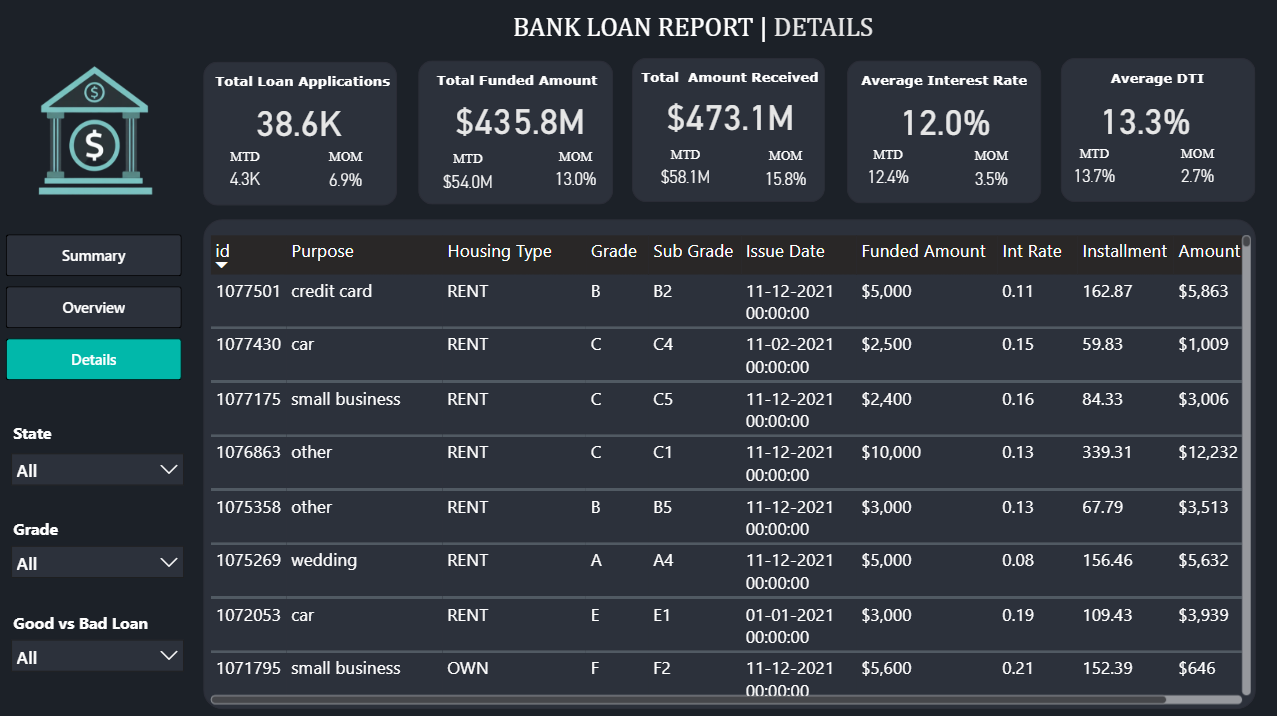

The page's visual inventory and layout, read from the dashboard file:
{"tool":"powerbi","page":{"name":"Details","canvas":[1280,720],"ordinal":2},"visuals":[{"type":"textbox","box":[121.7,10,1158.3,58.3],"z":0},{"type":"shape","box":[635.4,60.6,193.1,144],"z":0,"group":"g3"},{"type":"shape","box":[1063.1,60.6,194.8,144],"z":0,"group":"g5"},{"type":"shape","box":[421.3,63.1,194.9,144],"z":0,"group":"g2"},{"type":"shape","box":[849.8,63.1,194.3,142.9],"z":0,"group":"g4"},{"type":"shape","box":[206,64.3,193.8,143.7],"z":0,"group":"g1"},{"type":"group","id":"g1","title":"Group 1","box":[206,64.3,195.9,143.7],"z":1000},{"type":"group","id":"g2","title":"Group 1","box":[421.3,63.1,195.7,144],"z":2000},{"type":"card","fields":{"Values":["financial_loan.Total Amount Received"]},"box":[653.6,73.1,159.3,89.5],"z":2000,"group":"g3"},{"type":"card","fields":{"Values":["financial_loan.Avg DTI"]},"box":[1087.7,83.2,121.5,77.3],"z":2000,"group":"g5"},{"type":"card","fields":{"Values":["financial_loan.Avg Interest Rate"]},"box":[886.9,83.9,121.5,76.1],"z":2000,"group":"g4"},{"type":"card","fields":{"Values":["financial_loan.Total Loan Applications"]},"box":[240.4,85.4,121.4,76.2],"z":2000,"group":"g1"},{"type":"card","fields":{"Values":["financial_loan.Total Funded Amount"]},"box":[439.5,86.6,166.3,69.8],"z":2000,"group":"g2"},{"type":"group","id":"g3","title":"Group 1","box":[635.4,60.6,194.9,144],"z":3000},{"type":"textbox","box":[637,65.2,193.3,37.2],"z":3000,"group":"g3"},{"type":"textbox","box":[1062.2,66.8,196,37.5],"z":3000,"group":"g5"},{"type":"textbox","box":[421.9,67.7,195.1,37.2],"z":3000,"group":"g2"},{"type":"textbox","box":[849.4,67.7,194.5,36.9],"z":3000,"group":"g4"},{"type":"textbox","box":[207.9,68.9,194,37.1],"z":3000,"group":"g1"},{"type":"textbox","box":[11.1,418.8,222.9,41.4],"z":3000,"group":"g9"},{"type":"textbox","box":[10.9,515,222.9,41.4],"z":3000,"group":"g10"},{"type":"textbox","box":[10.9,608.8,222.9,41.4],"z":3000,"group":"g11"},{"type":"group","id":"g4","title":"Group 1","box":[849.4,63.1,194.7,142.9],"z":4000},{"type":"card","title":"MTD","fields":{"Values":["financial_loan.MTD Avg DTI"]},"box":[1063.7,147.5,67.5,40],"z":4000,"group":"g5"},{"type":"card","title":"MTD","fields":{"Values":["financial_loan.MTD Avg Interest Rate"]},"box":[857.4,149.1,67.5,40],"z":4000,"group":"g4"},{"type":"card","title":"MTD","fields":{"Values":["financial_loan.MTD Amount Received"]},"box":[652.1,149.5,74.8,40.5],"z":4000,"group":"g3"},{"type":"card","title":"MTD","fields":{"Values":["financial_loan.MTD Loan Applications"]},"box":[213.4,152.2,68.7,40.5],"z":4000,"group":"g1"},{"type":"card","title":"MTD","fields":{"Values":["financial_loan.MTD Funded Amount"]},"box":[427.1,152.6,87.1,39.3],"z":4000,"group":"g2"},{"type":"group","id":"g5","title":"Group 1","box":[1062.2,60.6,196,144],"z":5000},{"type":"card","title":"MOM","fields":{"Values":["financial_loan.MOM Avg DTI"]},"box":[1166.3,147.5,68.8,40],"z":5000,"group":"g5"},{"type":"card","title":"MOM","fields":{"Values":["financial_loan.MOM Avg Interest Rate"]},"box":[960,150.3,68.8,38.8],"z":5000,"group":"g4"},{"type":"card","title":"MOM","fields":{"Values":["financial_loan.MOM Amount Received"]},"box":[755,150.5,67.5,38.8],"z":5000,"group":"g3"},{"type":"card","title":"MOM","fields":{"Values":["financial_loan.MOM Funded Amount"]},"box":[542.6,151.3,72.4,44.2],"z":5000,"group":"g2"},{"type":"card","title":"MOM","fields":{"Values":["financial_loan.MOM Loan Applications"]},"box":[315.2,152.2,67.5,39.3],"z":5000,"group":"g1"},{"type":"shape","box":[206.2,221.2,1052.5,490],"z":6000},{"type":"group","id":"g6","title":"Group 2","box":[3.8,418.8,230,95],"z":7000},{"type":"group","id":"g7","title":"Group 3","box":[3.8,515,230,93.8],"z":8000},{"type":"group","id":"g8","title":"Group 4","box":[3.8,608.8,230,92.5],"z":9000},{"type":"tableEx","fields":{"Values":["financial_loan.id","financial_loan.purpose","financial_loan.home_ownership","financial_loan.grade","financial_loan.sub_grade","financial_loan.issue_date","financial_loan.Total Funded Amount","Sum(financial_loan.int_rate)","Sum(financial_loan.installment)","financial_loan.Total Amount Received"]},"box":[207.5,232.5,1051.2,478.8],"z":10000},{"type":"image","box":[31.2,56.2,131.2,152.5],"z":11000},{"type":"pageNavigator","box":[8.8,236.2,176.2,147.5],"z":12000},{"type":"slicer","fields":{"Values":["financial_loan.address_state"]},"box":[3.8,444.8,192.9,70],"z":19000,"group":"g6"},{"type":"group","id":"g9","title":"Group 1","box":[11.1,418.8,222.9,41.4],"z":20000,"group":"g6"},{"type":"slicer","fields":{"Values":["financial_loan.grade"]},"box":[3.8,537.9,192.9,70],"z":21000,"group":"g7"},{"type":"slicer","fields":{"Values":["financial_loan.Good Loan vs Bad Loan"]},"box":[3.8,631.4,192.9,70],"z":23000,"group":"g8"},{"type":"group","id":"g10","title":"Group 1","box":[10.9,515,222.9,41.4],"z":24000,"group":"g7"},{"type":"group","id":"g11","title":"Group 1","box":[10.9,608.8,222.9,41.4],"z":24001,"group":"g8"}]}

Visuals, with their boxes in screenshot pixels (x1, y1, x2, y2), scaled from the page's 1280x720 canvas onto the 1277x716 screenshot:
textbox: bbox(121, 10, 1276, 68)
shape: bbox(634, 60, 827, 203)
shape: bbox(1061, 60, 1255, 203)
shape: bbox(420, 63, 615, 206)
shape: bbox(848, 63, 1042, 205)
shape: bbox(206, 64, 399, 207)
"Group 1" group: bbox(206, 64, 401, 207)
"Group 1" group: bbox(420, 63, 616, 206)
card - financial_loan.Total Amount Received: bbox(652, 73, 811, 162)
card - financial_loan.Avg DTI: bbox(1085, 83, 1206, 160)
card - financial_loan.Avg Interest Rate: bbox(885, 83, 1006, 159)
card - financial_loan.Total Loan Applications: bbox(240, 85, 361, 161)
card - financial_loan.Total Funded Amount: bbox(438, 86, 604, 156)
"Group 1" group: bbox(634, 60, 828, 203)
textbox: bbox(636, 65, 828, 102)
textbox: bbox(1060, 66, 1255, 104)
textbox: bbox(421, 67, 616, 104)
textbox: bbox(847, 67, 1041, 104)
textbox: bbox(207, 69, 401, 105)
textbox: bbox(11, 416, 233, 458)
textbox: bbox(11, 512, 233, 553)
textbox: bbox(11, 605, 233, 647)
"Group 1" group: bbox(847, 63, 1042, 205)
"MTD" card: bbox(1061, 147, 1129, 186)
"MTD" card: bbox(855, 148, 923, 188)
"MTD" card: bbox(651, 149, 725, 189)
"MTD" card: bbox(213, 151, 281, 192)
"MTD" card: bbox(426, 152, 513, 191)
"Group 1" group: bbox(1060, 60, 1255, 203)
"MOM" card: bbox(1164, 147, 1232, 186)
"MOM" card: bbox(958, 149, 1026, 188)
"MOM" card: bbox(753, 150, 821, 188)
"MOM" card: bbox(541, 150, 614, 194)
"MOM" card: bbox(314, 151, 382, 190)
shape: bbox(206, 220, 1256, 707)
"Group 2" group: bbox(4, 416, 233, 511)
"Group 3" group: bbox(4, 512, 233, 605)
"Group 4" group: bbox(4, 605, 233, 697)
tableEx - financial_loan.id x financial_loan.purpose: bbox(207, 231, 1256, 707)
image: bbox(31, 56, 162, 208)
pageNavigator: bbox(9, 235, 185, 382)
slicer - financial_loan.address_state: bbox(4, 442, 196, 512)
"Group 1" group: bbox(11, 416, 233, 458)
slicer - financial_loan.grade: bbox(4, 535, 196, 605)
slicer - financial_loan.Good Loan vs Bad Loan: bbox(4, 628, 196, 698)
"Group 1" group: bbox(11, 512, 233, 553)
"Group 1" group: bbox(11, 605, 233, 647)
